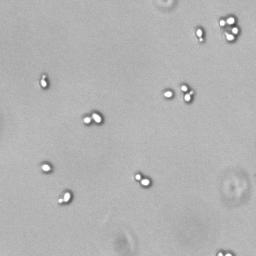budding: (180, 82, 195, 104), (83, 110, 103, 126), (56, 189, 73, 205), (133, 173, 151, 188), (194, 25, 206, 44), (39, 73, 49, 89), (213, 249, 235, 256)
cluster: (217, 14, 241, 44)
individual: (163, 88, 174, 100), (40, 162, 52, 173)
